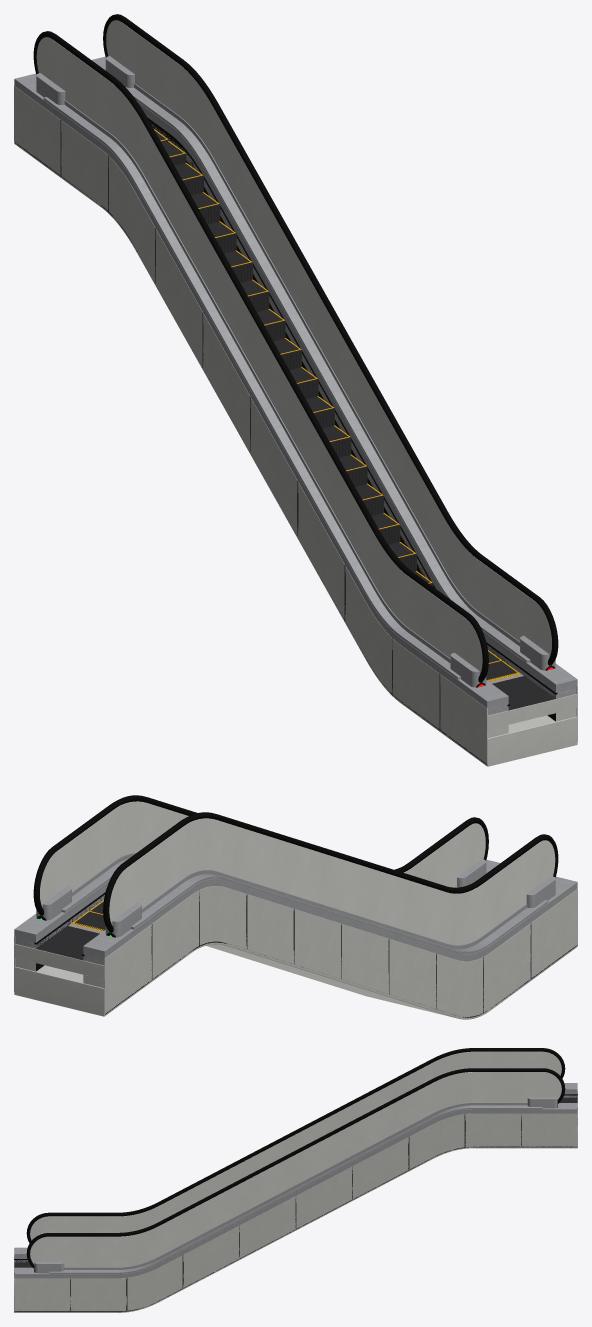
Rendered from gteki_escalator_s600_r3500_down.glb.
The picture shows the model from 3 angles, top to bottom: view 1: azimuth 30°, elevation 25°; view 2: azimuth 150°, elevation 25°; view 3: azimuth 270°, elevation 25°; orthographic projection. The views are drawn at different scales.
Visible parts, largest first — view 1: VIS_balustrades, VIS_truss_cladding, VIS_deck_boards, VIS_moving_handrails, VIS_skirts, VIS_steps, VIS_balustrade_shoes, VIS_truss_soffit, VIS_landing_plates, VIS_newel_bases, VIS_truss_reveals, VIS_skirt_brushes (+1 smaller); view 2: VIS_balustrades, VIS_truss_cladding, VIS_skirts, VIS_moving_handrails, VIS_truss_soffit, VIS_deck_boards, VIS_landing_plates, VIS_newel_bases, VIS_balustrade_shoes, VIS_truss_reveals, VIS_steps; view 3: VIS_balustrades, VIS_truss_cladding, VIS_moving_handrails, VIS_skirts, VIS_deck_boards, VIS_balustrade_shoes, VIS_truss_soffit, VIS_truss_reveals, VIS_newel_bases.
Boxes of the visible parts, x1=… form: VIS_balustrades: x1=36, y1=20, x2=551, y2=674; VIS_truss_cladding: x1=14, y1=86, x2=577, y2=763; VIS_deck_boards: x1=43, y1=86, x2=530, y2=679; VIS_moving_handrails: x1=33, y1=14, x2=558, y2=682; VIS_skirts: x1=14, y1=56, x2=577, y2=715; VIS_steps: x1=155, y1=131, x2=516, y2=680; VIS_balustrade_shoes: x1=64, y1=83, x2=519, y2=662; VIS_truss_soffit: x1=14, y1=142, x2=577, y2=766; VIS_landing_plates: x1=487, y1=673, x2=577, y2=729; VIS_newel_bases: x1=36, y1=56, x2=555, y2=687; VIS_truss_reveals: x1=14, y1=121, x2=576, y2=764; VIS_skirt_brushes: x1=147, y1=117, x2=557, y2=706; VIS_balustrades: x1=40, y1=801, x2=555, y2=945; VIS_truss_cladding: x1=14, y1=886, x2=577, y2=1016; VIS_skirts: x1=14, y1=860, x2=577, y2=965; VIS_moving_handrails: x1=33, y1=795, x2=558, y2=932; VIS_truss_soffit: x1=14, y1=935, x2=577, y2=1019; VIS_deck_boards: x1=61, y1=858, x2=548, y2=953; VIS_landing_plates: x1=14, y1=923, x2=104, y2=979; VIS_newel_bases: x1=36, y1=859, x2=555, y2=937; VIS_balustrade_shoes: x1=72, y1=853, x2=527, y2=949; VIS_truss_reveals: x1=15, y1=896, x2=577, y2=1017; VIS_steps: x1=75, y1=901, x2=105, y2=930; VIS_balustrades: x1=30, y1=1051, x2=561, y2=1267; VIS_truss_cladding: x1=14, y1=1113, x2=577, y2=1311; VIS_moving_handrails: x1=26, y1=1048, x2=565, y2=1268; VIS_skirts: x1=14, y1=1083, x2=577, y2=1279; VIS_deck_boards: x1=49, y1=1105, x2=542, y2=1273; VIS_balustrade_shoes: x1=64, y1=1102, x2=527, y2=1269; VIS_truss_soffit: x1=14, y1=1126, x2=577, y2=1312; VIS_truss_reveals: x1=14, y1=1095, x2=577, y2=1311; VIS_newel_bases: x1=34, y1=1097, x2=557, y2=1273.
Size of what is drawn, in the model's own units: 1.21 by 5.13 by 10.86.
10 materials, 4 textured.
